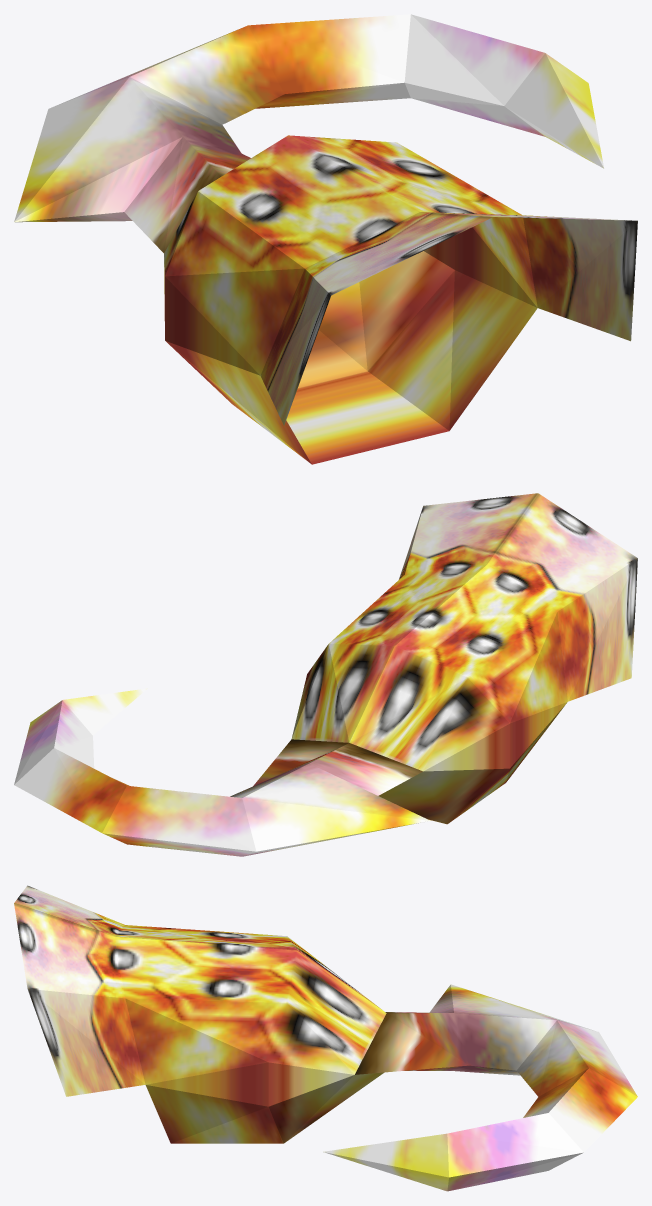
File: twinblade103_3.obj
The picture shows the model from 3 angles, top to bottom: view 1: azimuth 30°, elevation 25°; view 2: azimuth 150°, elevation 25°; view 3: azimuth 270°, elevation 25°; orthographic projection. The views are drawn at different scales.
Parts seen in each view (by area): view 1: MDL_cwdhkn03_3r; view 2: MDL_cwdhkn03_3r; view 3: MDL_cwdhkn03_3r.
Part boxes in pixels (<box>): MDL_cwdhkn03_3r: <box>14,14,637,464</box>; MDL_cwdhkn03_3r: <box>14,493,637,856</box>; MDL_cwdhkn03_3r: <box>14,885,637,1191</box>.
Bounding box in the file's own units: 0.3438 × 0.1774 × 0.4625.
